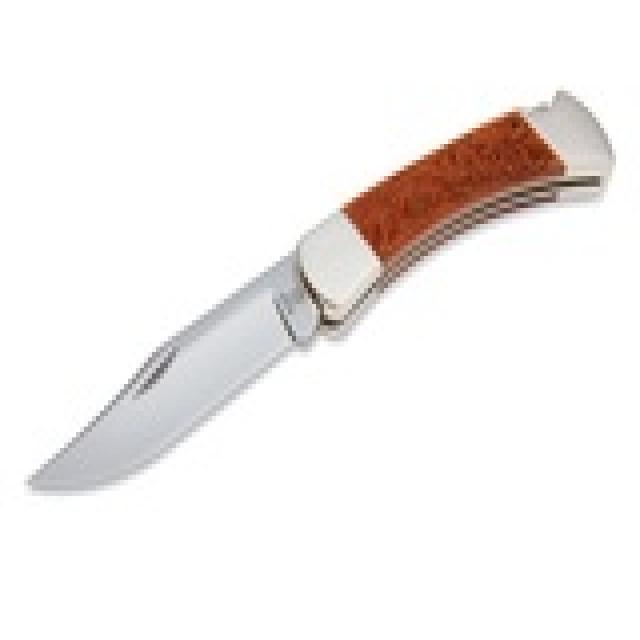Knife: (18, 76, 610, 523)
